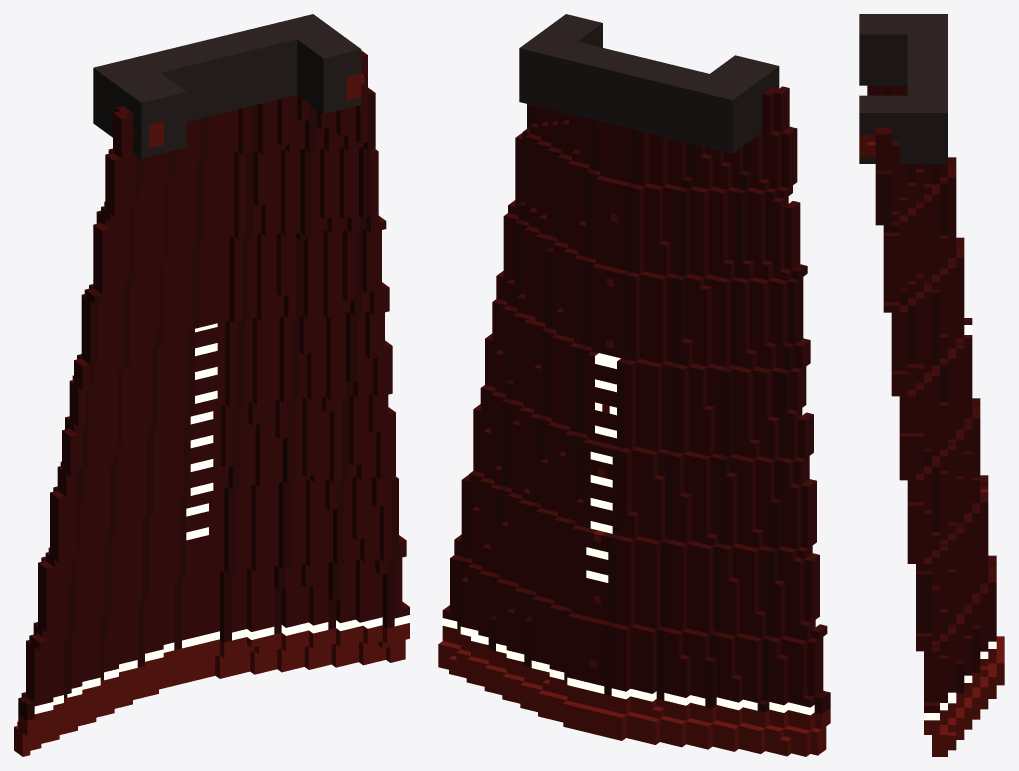
File: scale_masterwork_cloak.glb
The picture shows the model from 3 angles, left to right: view 1: azimuth 30°, elevation 25°; view 2: azimuth 150°, elevation 25°; view 3: azimuth 270°, elevation 25°; orthographic projection. The views are drawn at different scales.
Visible parts, largest first — view 1: scale_masterwork_cloak; view 2: scale_masterwork_cloak; view 3: scale_masterwork_cloak.
Boxes of the visible parts, <box> form: scale_masterwork_cloak: <box>14,14,409,756</box>; scale_masterwork_cloak: <box>438,14,830,756</box>; scale_masterwork_cloak: <box>859,14,1004,756</box>.
Size of the model in its own units: 0.612 by 0.996 by 0.216.
